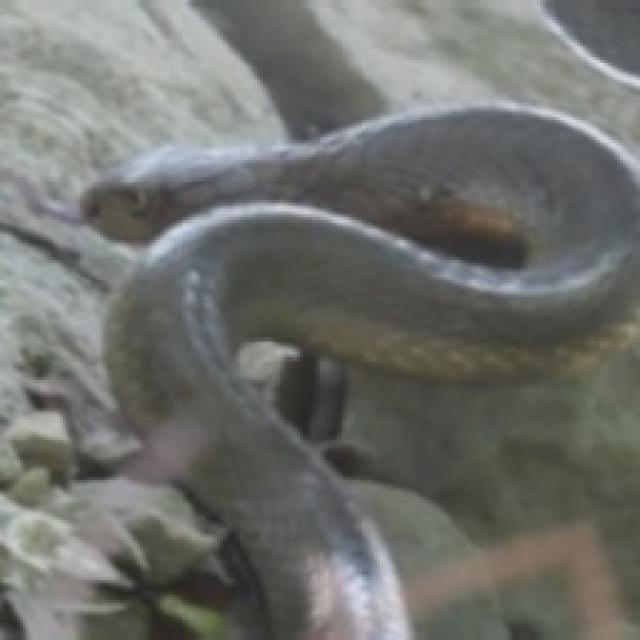king cobra: (83, 103, 637, 637)
